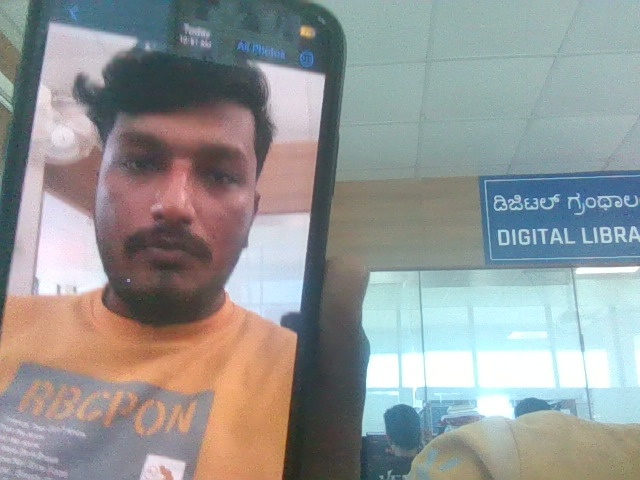fake: (64, 11, 288, 328)
